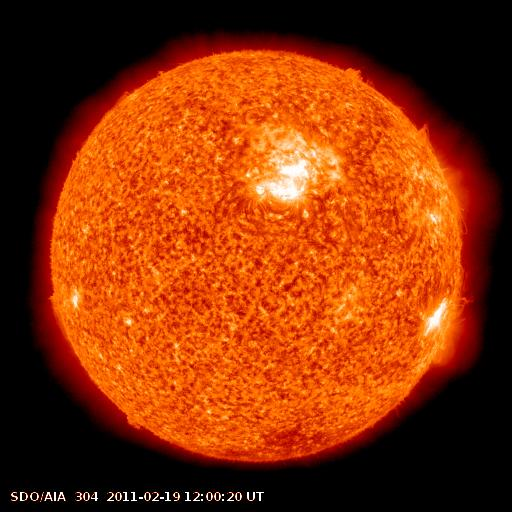prominence: (110, 400, 159, 442), (335, 54, 377, 96), (409, 110, 443, 151)
